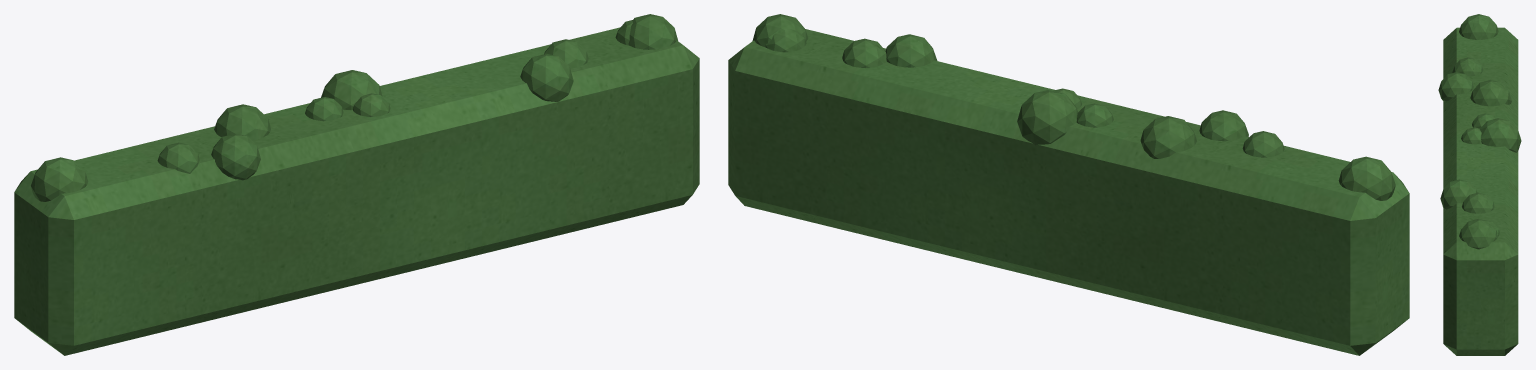
The model's file is hedge.glb.
The picture shows the model from 3 angles, left to right: view 1: azimuth 30°, elevation 25°; view 2: azimuth 150°, elevation 25°; view 3: azimuth 270°, elevation 25°; orthographic projection. The views are drawn at different scales.
Parts seen in each view (by area): view 1: hedge_hedge; view 2: hedge_hedge; view 3: hedge_hedge.
Boxes of the visible parts, x1=… form: hedge_hedge: x1=14, y1=14, x2=699, y2=355; hedge_hedge: x1=728, y1=14, x2=1409, y2=355; hedge_hedge: x1=1438, y1=14, x2=1521, y2=355.
Size of the model in its own units: 3.2 by 0.867 by 0.4971.
1 material, 1 textured.
